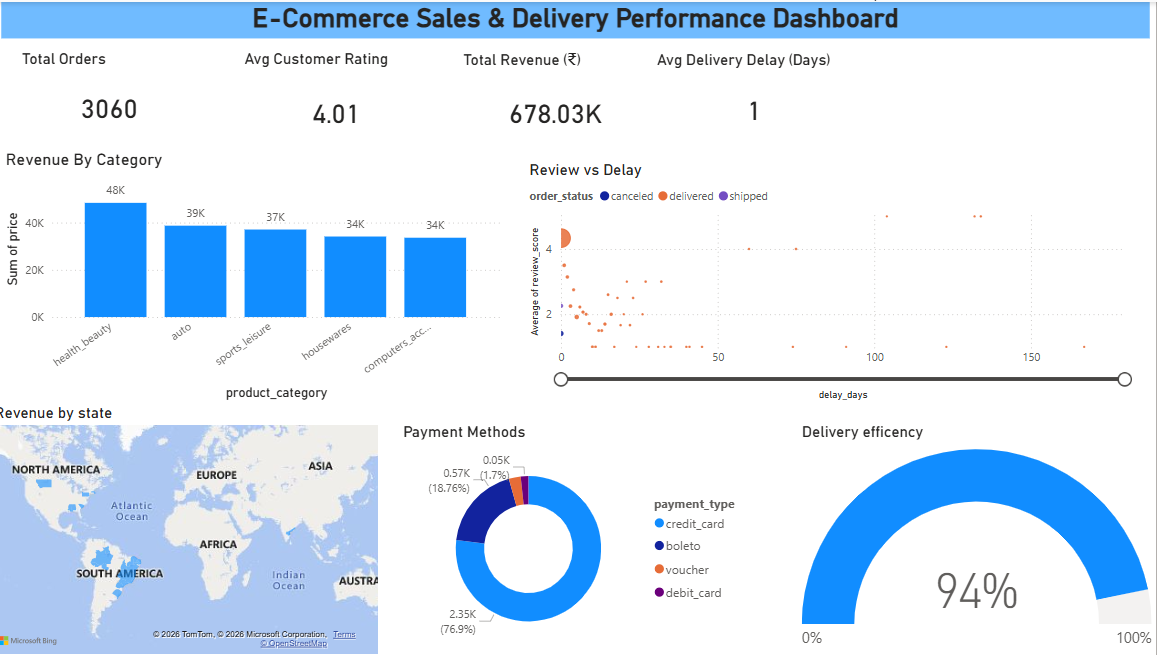

The page's visual inventory and layout, read from the dashboard file:
{"tool":"powerbi","page":{"name":"Page 1","canvas":[1280,720],"ordinal":0},"visuals":[{"type":"clusteredColumnChart","title":"Revenue By Category","fields":{"Category":["Sheet1.product_category"],"Y":["Sum(Sheet1.price)"]},"box":[12.3,161.9,553,279.9],"z":0},{"type":"filledMap","title":" Revenue by state","fields":{"Category":["Sheet1.customer_state"]},"box":[0,440,431.4,280],"z":1000},{"type":"donutChart","title":"Payment Methods","fields":{"Category":["Sheet1 (2).payment_type"],"Y":["CountNonNull(Sheet1 (2).order_id)"]},"box":[448.7,461.1,391.1,259.3],"z":2000},{"type":"scatterChart","title":"Review vs Delay","fields":{"Y":["Avg(Sheet1 (2).review_score)"],"Series":["Sheet1 (2).order_status"],"X":["Sheet1.delay_days"],"Size":["Sheet1.total revenue"]},"box":[587.3,174.3,673.8,267.6],"z":3000},{"type":"card","title":"Total Orders","fields":{"Values":["Sheet1.total orders"]},"box":[30.2,52.1,201.7,107],"z":4000},{"type":"card","title":"Avg Customer Rating","fields":{"Values":["Avg(Sheet1.review_score)"]},"box":[274.4,52.1,211.3,119.4],"z":5000},{"type":"card","title":"Total Revenue (₹)","fields":{"Values":["Sheet1.total revenue"]},"box":[514.6,52.1,212.7,119.4],"z":6000},{"type":"gauge","title":"Delivery efficency","fields":{"Y":["Sheet1.delivery efficency"]},"box":[886.5,461.1,393.8,259.3],"z":7000},{"type":"card","title":"Avg Delivery Delay (Days)","fields":{"Values":["Sheet1.avg delivery delays"]},"box":[727.3,53.5,223.7,108.4],"z":8000},{"type":"textbox","title":"E-Commerce Sales & Delivery Performance Dashboard","box":[12.3,0,1261.1,39.8],"z":9000}]}

Visuals, with their boxes in screenshot pixels (x1, y1, x2, y2), scaled from the page's 1280x720 canvas onto the 1157x655 screenshot:
"Revenue By Category" clusteredColumnChart: (x1=11, y1=147, x2=511, y2=402)
" Revenue by state" filledMap: (x1=0, y1=400, x2=390, y2=654)
"Payment Methods" donutChart: (x1=406, y1=419, x2=759, y2=654)
"Review vs Delay" scatterChart: (x1=531, y1=159, x2=1140, y2=402)
"Total Orders" card: (x1=27, y1=47, x2=210, y2=145)
"Avg Customer Rating" card: (x1=248, y1=47, x2=439, y2=156)
"Total Revenue (₹)" card: (x1=465, y1=47, x2=657, y2=156)
"Delivery efficency" gauge: (x1=801, y1=419, x2=1156, y2=654)
"Avg Delivery Delay (Days)" card: (x1=657, y1=49, x2=860, y2=147)
"E-Commerce Sales & Delivery Performance Dashboard" textbox: (x1=11, y1=0, x2=1151, y2=36)
